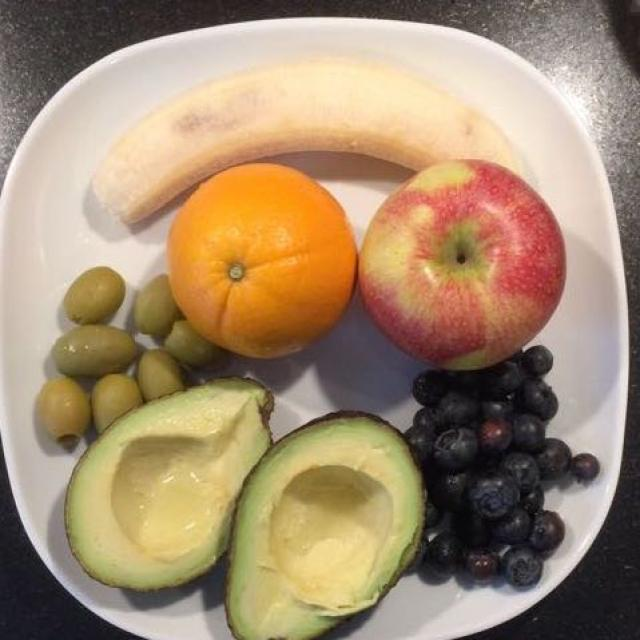apple: (354, 152, 566, 358)
avocado: (18, 387, 431, 637)
banana: (94, 66, 550, 230)
blueberries: (418, 328, 598, 587)
green-olives: (47, 266, 204, 437)
orange: (164, 165, 351, 370)
